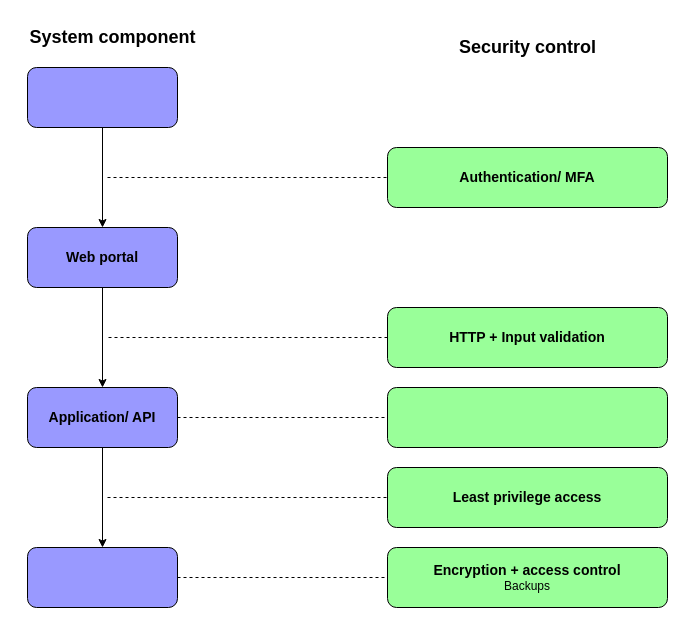
Image size: 685x625. Some labels were removed from this diagram. The centre of each missing label's shape, as x and y in pixels:
"Database" goes at [102,577].
"RBAC + authorization Rate limiting + logging" goes at [527,417].
"User" goes at [102,97].
